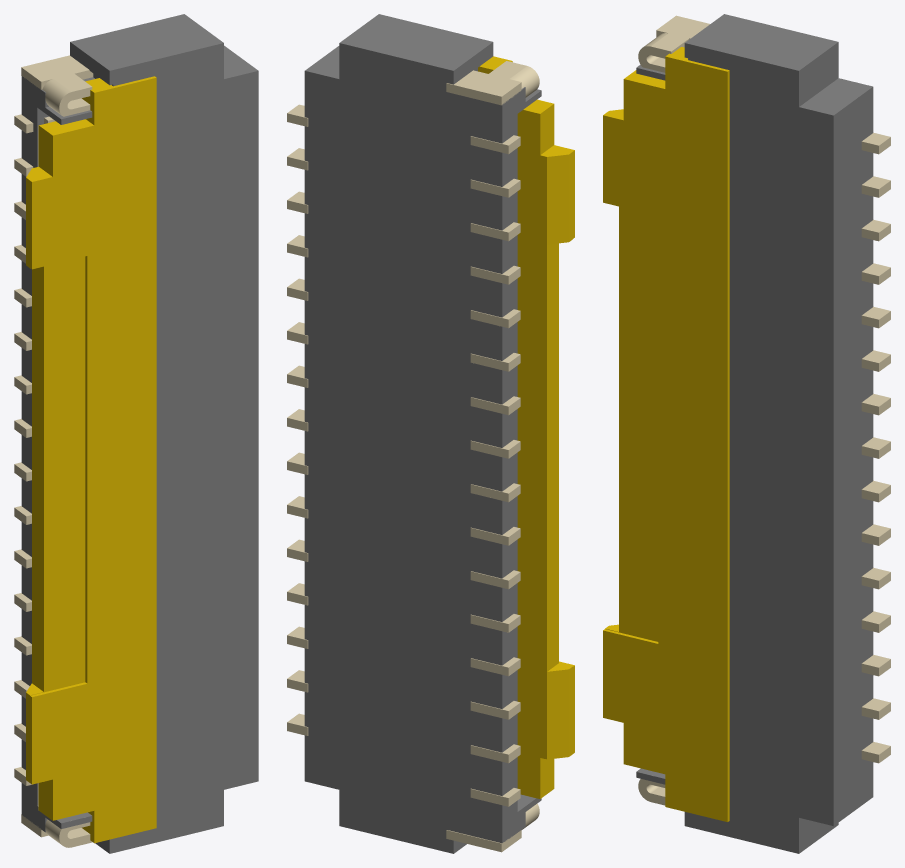
File: Hirose_FH26-31S-0.3SHW_2Rows-31Pins-1MP_P0.60mm_Horizontal.glb
3 views of the same model, side by side, from view 1: azimuth 30°, elevation 25°; view 2: azimuth 150°, elevation 25°; view 3: azimuth 330°, elevation 25° (orthographic).
Parts seen in each view (by area): view 1: Shape_IndexedFaceSet.004, Shape_IndexedFaceSet.031, Shape_IndexedFaceSet.034, Shape_IndexedFaceSet.014, Shape_IndexedFaceSet.049, Shape_IndexedFaceSet.001, Shape_IndexedFaceSet.276, Shape_IndexedFaceSet.042, Shape_IndexedFaceSet.002, Shape_IndexedFaceSet.005, Shape_IndexedFaceSet.046, Shape_IndexedFaceSet.185 (+5 smaller); view 2: Shape_IndexedFaceSet.003, Shape_IndexedFaceSet.032, Shape_IndexedFaceSet.014, Shape_IndexedFaceSet.049, Shape_IndexedFaceSet.001, Shape_IndexedFaceSet.030, Shape_IndexedFaceSet.050, Shape_IndexedFaceSet.276, Shape_IndexedFaceSet.046, Shape_IndexedFaceSet.002, Shape_IndexedFaceSet.005; view 3: Shape_IndexedFaceSet.004, Shape_IndexedFaceSet.031, Shape_IndexedFaceSet.006, Shape_IndexedFaceSet.034, Shape_IndexedFaceSet.001, Shape_IndexedFaceSet.038, Shape_IndexedFaceSet, Shape_IndexedFaceSet.002, Shape_IndexedFaceSet.276, Shape_IndexedFaceSet.008.
Part boxes in pixels (x1,y1,x2,y2): Shape_IndexedFaceSet.004: [61, 43, 258, 853]; Shape_IndexedFaceSet.031: [32, 77, 156, 843]; Shape_IndexedFaceSet.034: [30, 256, 85, 695]; Shape_IndexedFaceSet.014: [21, 76, 61, 831]; Shape_IndexedFaceSet.049: [32, 266, 43, 691]; Shape_IndexedFaceSet.001: [70, 14, 223, 70]; Shape_IndexedFaceSet.276: [21, 55, 91, 91]; Shape_IndexedFaceSet.042: [85, 256, 87, 682]; Shape_IndexedFaceSet.002: [224, 45, 258, 78]; Shape_IndexedFaceSet.005: [70, 42, 109, 84]; Shape_IndexedFaceSet.046: [39, 126, 52, 176]; Shape_IndexedFaceSet.185: [42, 79, 70, 115]; Shape_IndexedFaceSet.003: [304, 43, 502, 853]; Shape_IndexedFaceSet.032: [478, 66, 546, 798]; Shape_IndexedFaceSet.014: [502, 87, 541, 842]; Shape_IndexedFaceSet.049: [547, 243, 558, 671]; Shape_IndexedFaceSet.001: [340, 14, 492, 70]; Shape_IndexedFaceSet.030: [547, 669, 568, 759]; Shape_IndexedFaceSet.050: [547, 154, 568, 244]; Shape_IndexedFaceSet.276: [447, 61, 526, 96]; Shape_IndexedFaceSet.046: [540, 104, 554, 154]; Shape_IndexedFaceSet.002: [305, 46, 339, 78]; Shape_IndexedFaceSet.005: [453, 42, 493, 84]; Shape_IndexedFaceSet.004: [636, 43, 833, 853]; Shape_IndexedFaceSet.031: [603, 56, 727, 821]; Shape_IndexedFaceSet.006: [833, 87, 873, 825]; Shape_IndexedFaceSet.034: [605, 206, 658, 641]; Shape_IndexedFaceSet.001: [685, 14, 837, 70]; Shape_IndexedFaceSet.038: [727, 70, 729, 821]; Shape_IndexedFaceSet: [799, 42, 838, 106]; Shape_IndexedFaceSet.002: [799, 78, 872, 115]; Shape_IndexedFaceSet.276: [651, 15, 709, 51]; Shape_IndexedFaceSet.008: [799, 818, 838, 853].
Size of the model in its own units: 1.4 by 4.25 by 0.4134.
